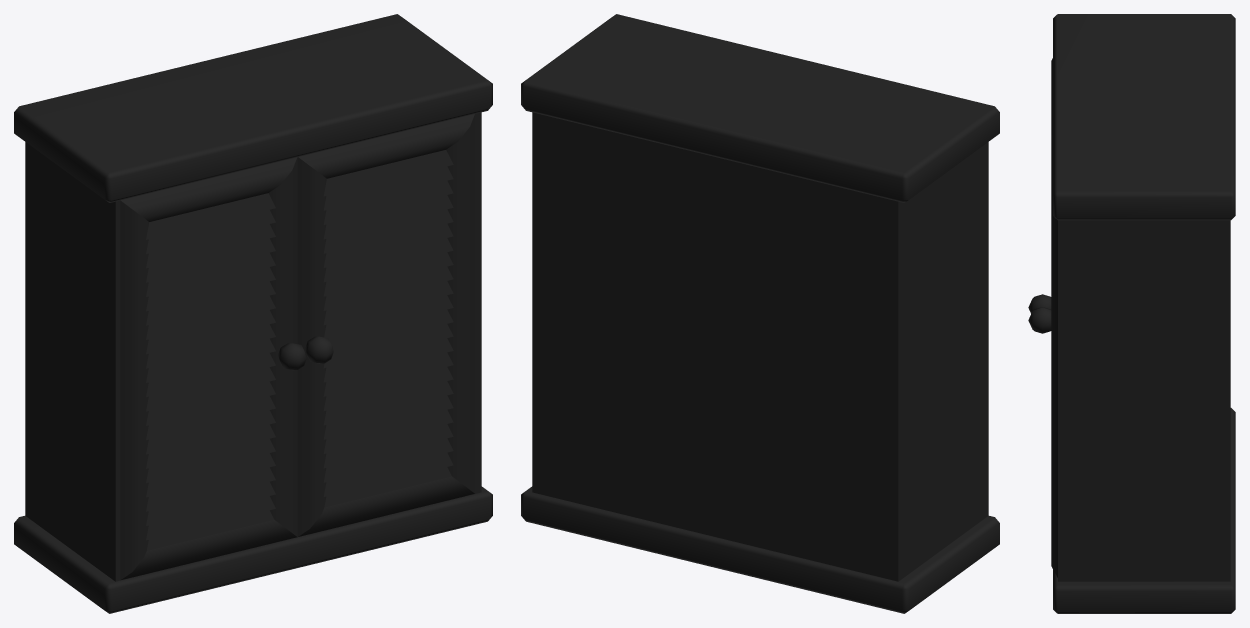
Rendered from bathroom_034.fbx.
3 views of the same model, side by side, from view 1: azimuth 30°, elevation 25°; view 2: azimuth 150°, elevation 25°; view 3: azimuth 270°, elevation 25° (orthographic). The views are drawn at different scales.
Visible parts, largest first — view 1: bathroom_034; view 2: bathroom_034; view 3: bathroom_034.
Boxes of the visible parts, left/top/right/bottom form: bathroom_034: left=14, top=14, right=492, bottom=613; bathroom_034: left=521, top=14, right=999, bottom=613; bathroom_034: left=1028, top=14, right=1235, bottom=613.
Size of the model in its own units: 107 by 51.74 by 116.
